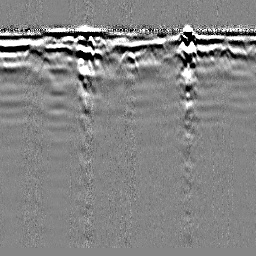cavity: (116, 49, 140, 74)
